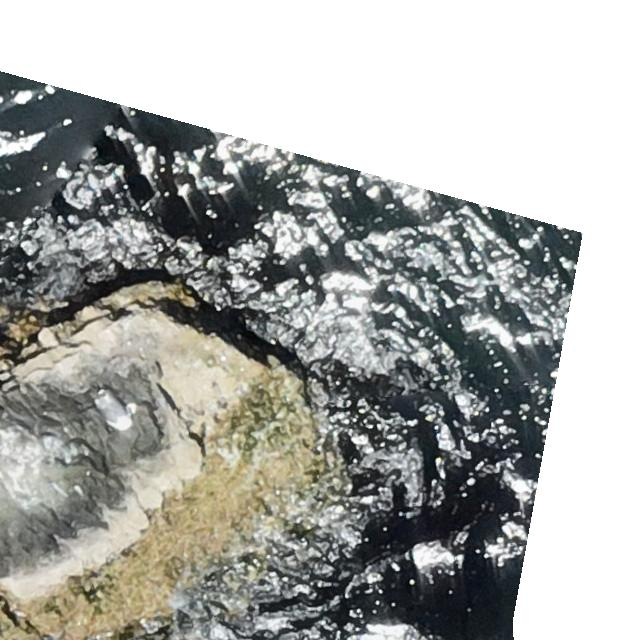umineko: (96, 387, 137, 430)
